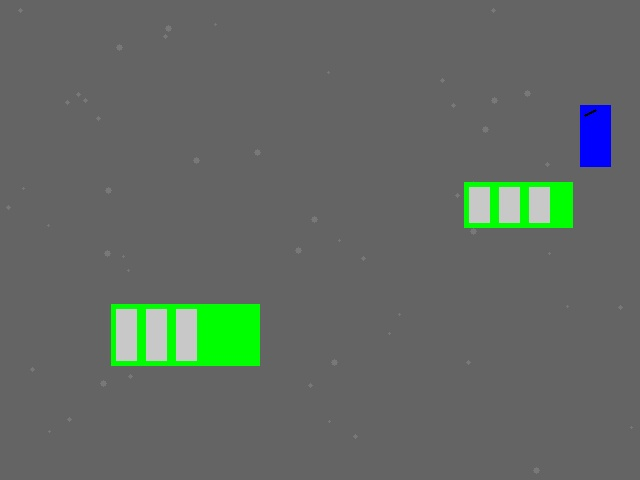bus: (111, 304, 259, 365), (464, 182, 572, 227)
motorcycle: (580, 105, 610, 166)
